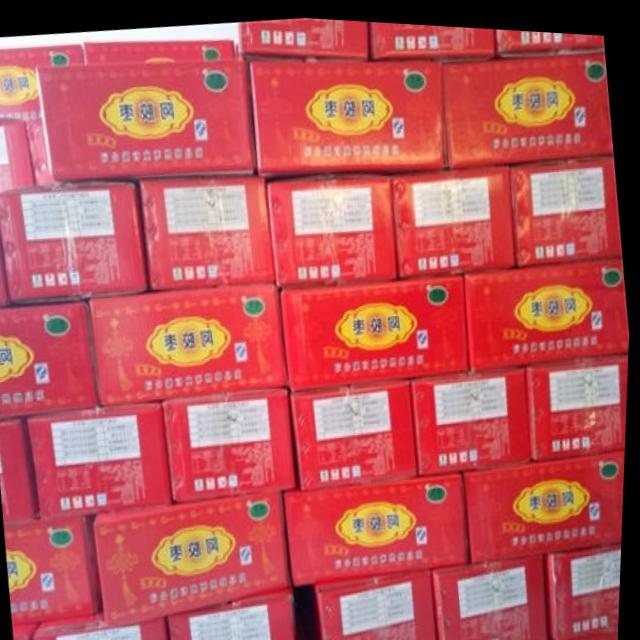box: (36, 54, 257, 179), (96, 489, 295, 627), (93, 276, 289, 406), (251, 51, 444, 170), (282, 269, 471, 390), (286, 468, 472, 582), (444, 44, 614, 162), (466, 249, 631, 365), (0, 179, 150, 305), (467, 441, 628, 557), (29, 400, 176, 519), (140, 171, 276, 288), (164, 384, 300, 500), (392, 158, 517, 274), (271, 170, 399, 283), (294, 376, 420, 484), (510, 146, 624, 262), (414, 361, 534, 471), (0, 299, 101, 419), (526, 346, 631, 454), (437, 548, 552, 640), (9, 516, 105, 626), (319, 563, 443, 640), (551, 533, 625, 638), (171, 584, 301, 640), (0, 44, 83, 122), (238, 14, 367, 52), (370, 17, 495, 55), (37, 607, 172, 640), (0, 419, 39, 524), (83, 36, 237, 61), (494, 23, 604, 47), (0, 121, 37, 190), (26, 119, 54, 185), (0, 238, 10, 304), (19, 622, 42, 640)
